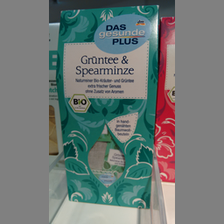tea: (56, 4, 159, 210)
